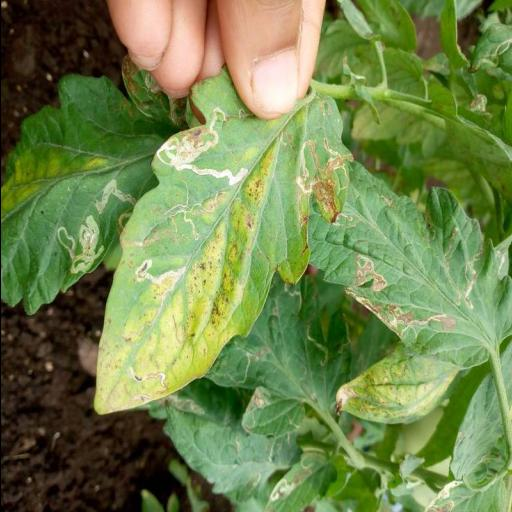disease_tomato: (92, 68, 354, 416), (0, 70, 154, 316)
